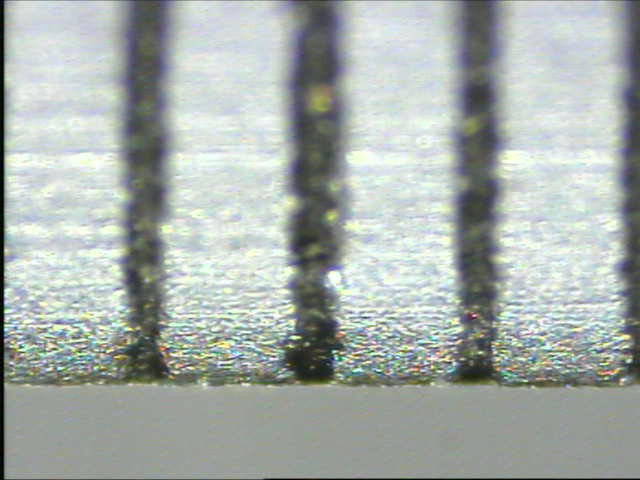line: (275, 1, 358, 377), (109, 1, 183, 383), (445, 1, 511, 378)
